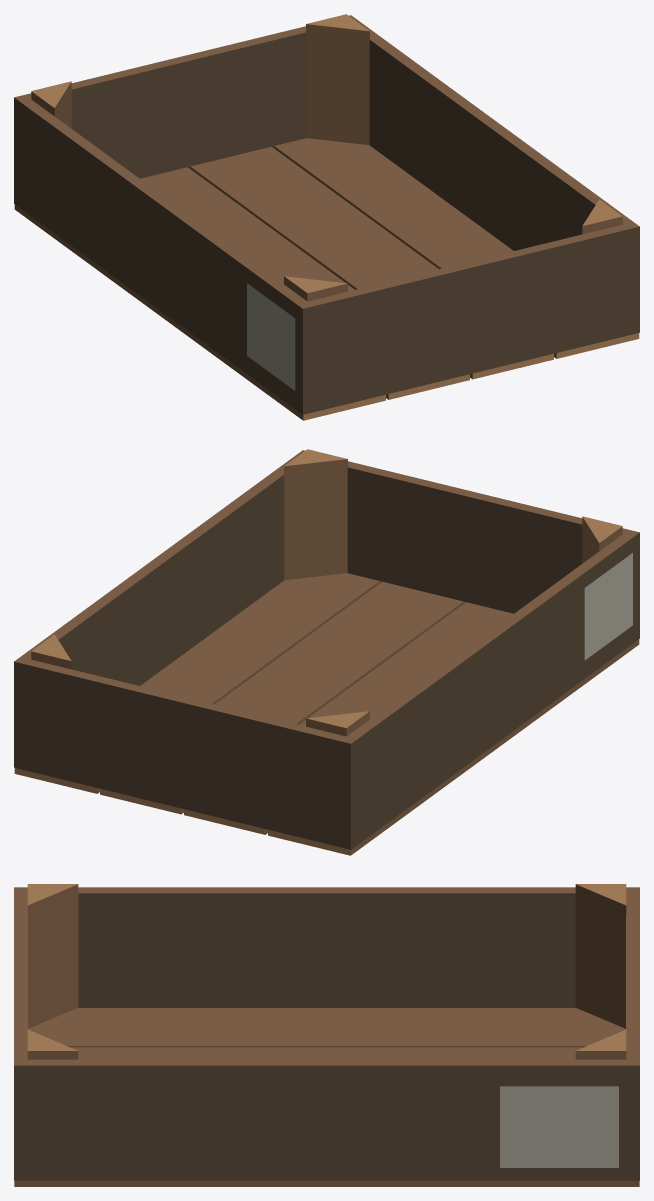
Rendered from SM_crate_2.gltf.
3 views of the same model, one above another, from view 1: azimuth 30°, elevation 25°; view 2: azimuth 150°, elevation 25°; view 3: azimuth 270°, elevation 25° (orthographic). The views are drawn at different scales.
Parts seen in each view (by area): view 1: SM_crate_2; view 2: SM_crate_2; view 3: SM_crate_2.
Part boxes in pixels (bbox=[...]): SM_crate_2: bbox=[14, 14, 639, 420]; SM_crate_2: bbox=[14, 449, 639, 855]; SM_crate_2: bbox=[14, 884, 639, 1186].
Size of the model in its own units: 0.6945 by 0.2366 by 1.03.
1 material, 1 textured.
